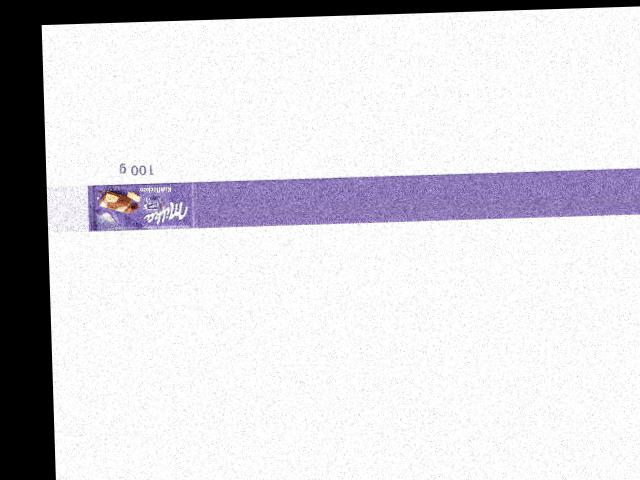chocolate: (86, 174, 199, 232)
